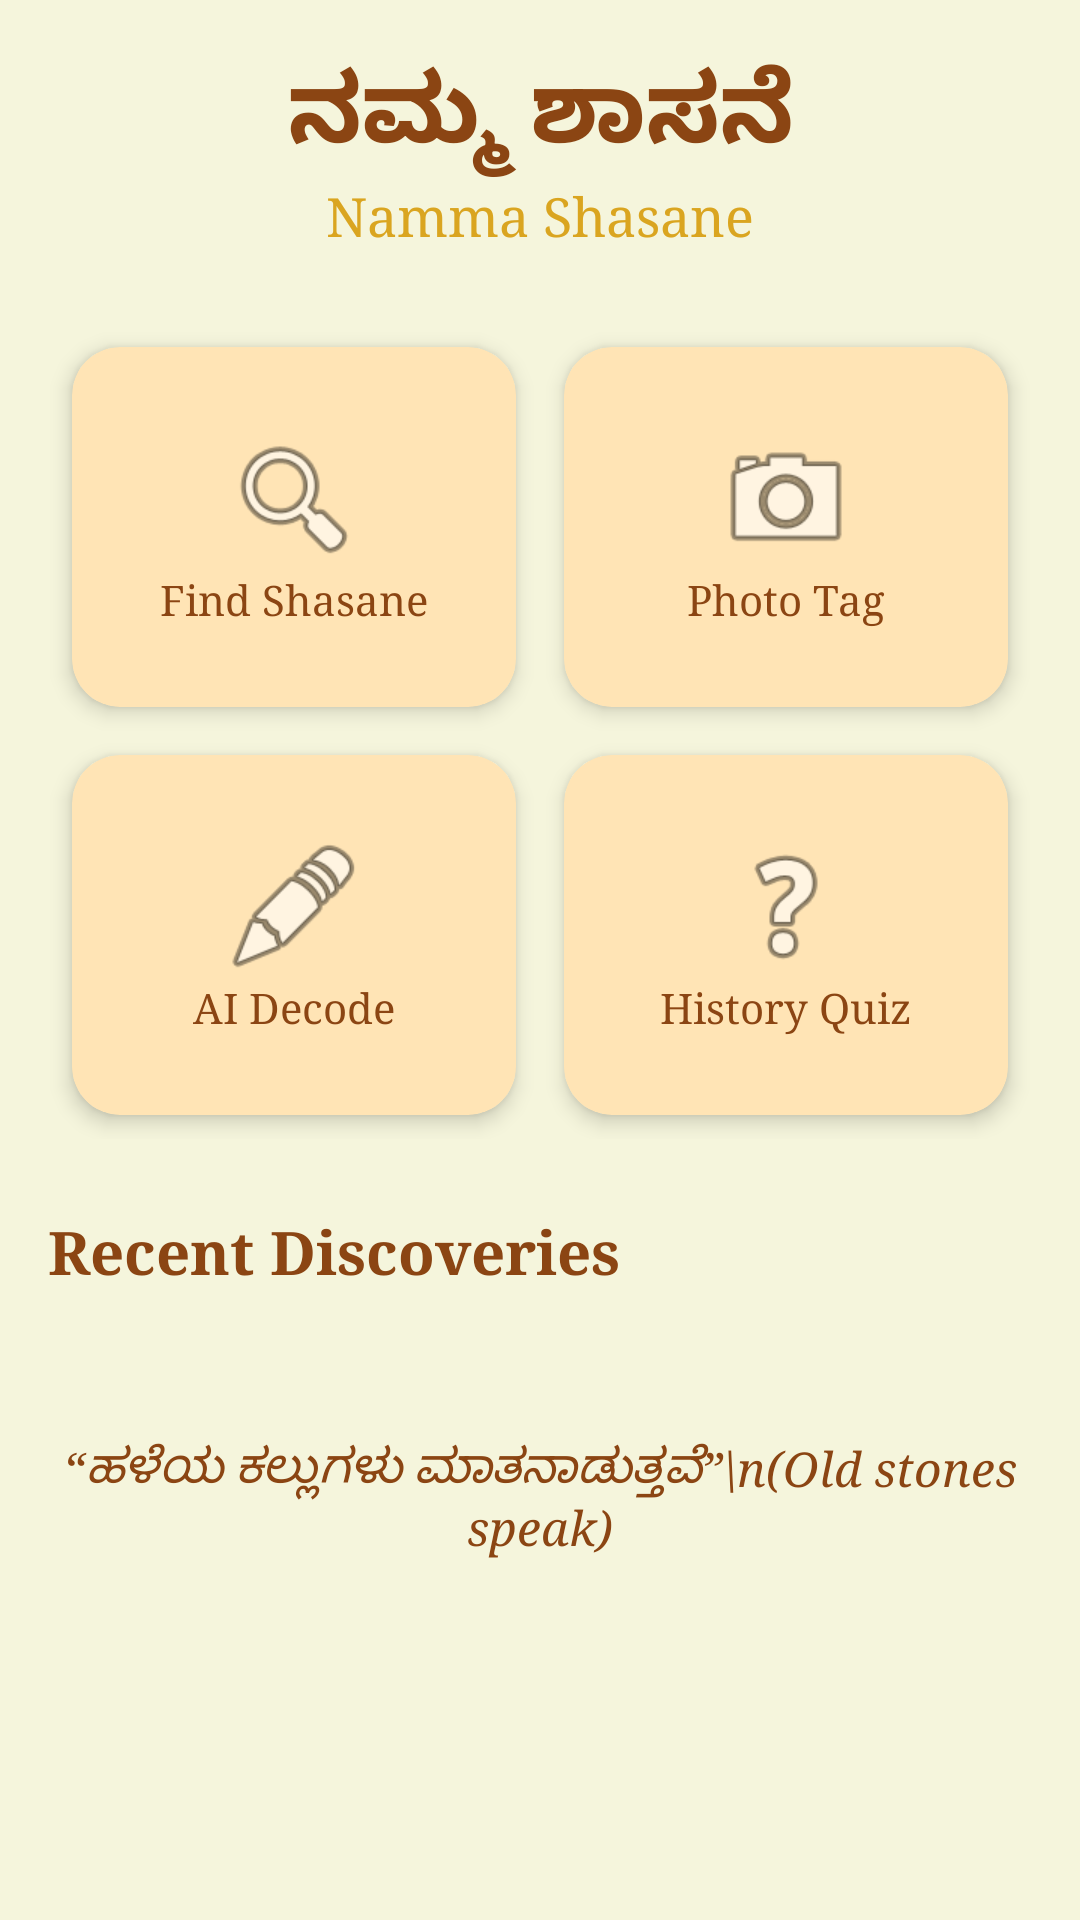

Point at icon controls on the screen. Image size 1080 × 1920, points as [x,y].
camera: [786,496]
edit: [293,906]
help: [786,907]
search: [294,499]
